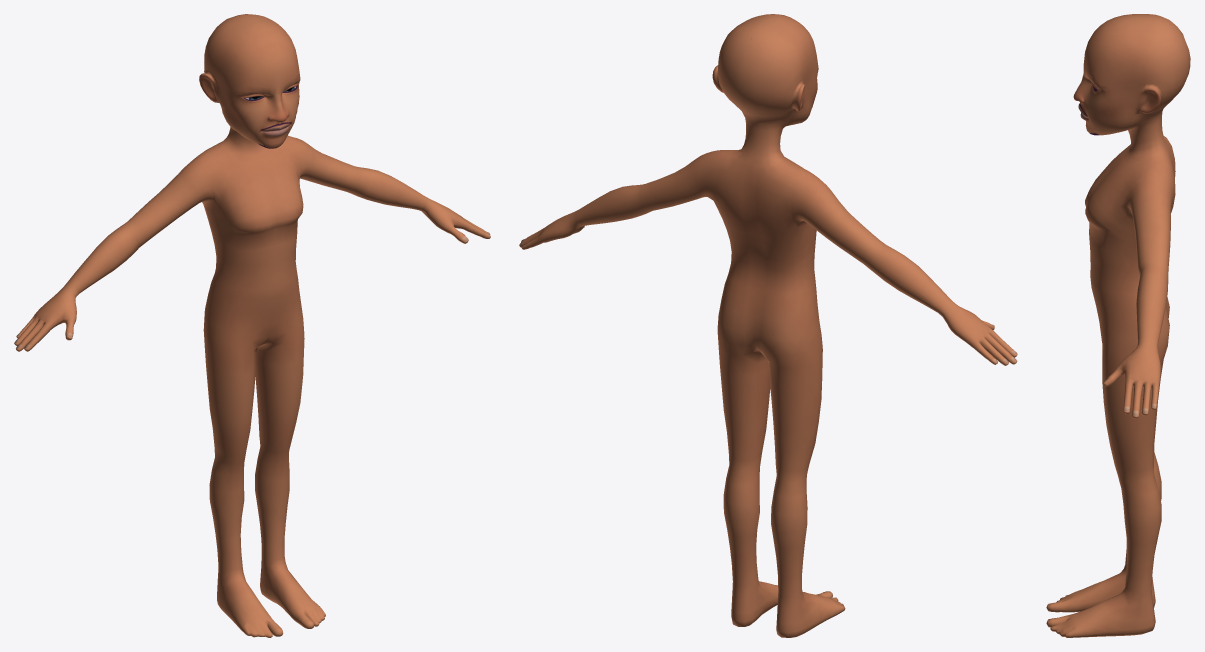
Rendered from frame_0006.glb.
3 views of the same model, side by side, from view 1: azimuth 30°, elevation 25°; view 2: azimuth 150°, elevation 25°; view 3: azimuth 270°, elevation 25° (orthographic). The views are drawn at different scales.
Parts seen in each view (by area): view 1: frame_0006_head_geo; view 2: frame_0006_head_geo; view 3: frame_0006_head_geo.
Part boxes in pixels (<box>): frame_0006_head_geo: <box>14,14,490,637</box>; frame_0006_head_geo: <box>519,14,1017,637</box>; frame_0006_head_geo: <box>1046,14,1190,637</box>.
Bounding box in the file's own units: 1.28 × 1.5 × 0.3253.
3 materials, 3 textured.
